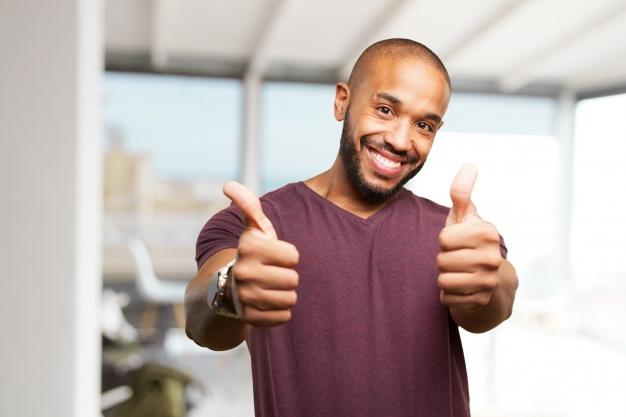thumbsup: (223, 181, 299, 328), (436, 162, 502, 309)
